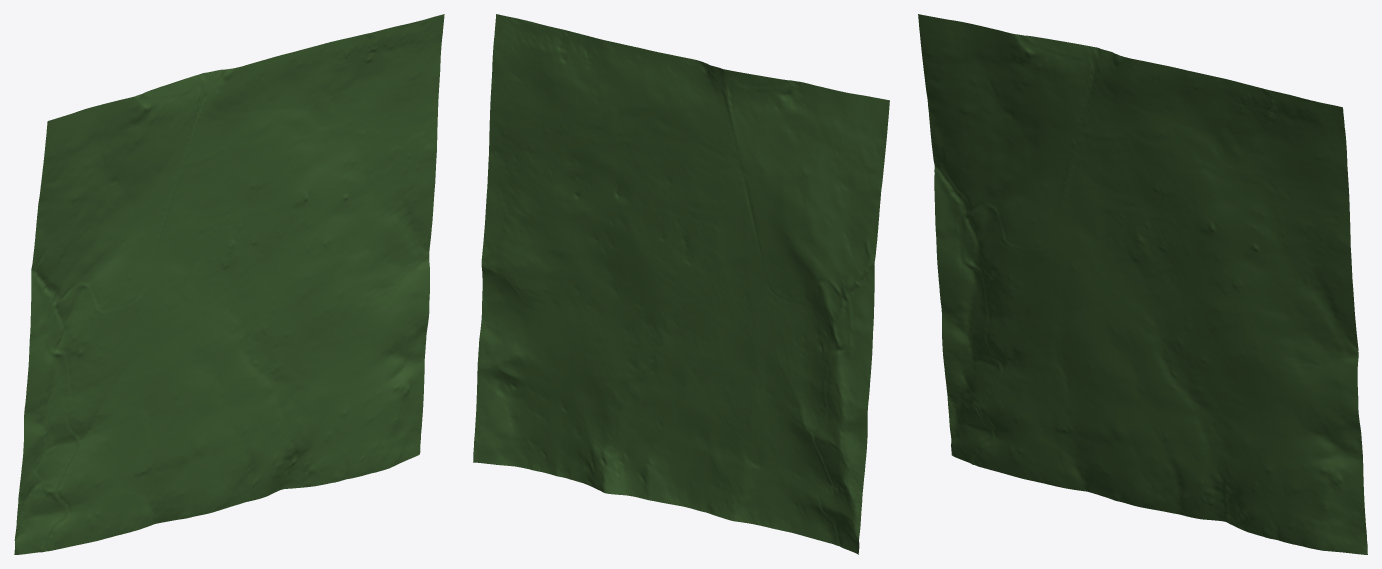
File: terreno.obj
The picture shows the model from 3 angles, left to right: view 1: azimuth 30°, elevation 25°; view 2: azimuth 150°, elevation 25°; view 3: azimuth 330°, elevation 25°; orthographic projection. The views are drawn at different scales.
Size of the model in its own units: 1275 by 1370 by 190.
